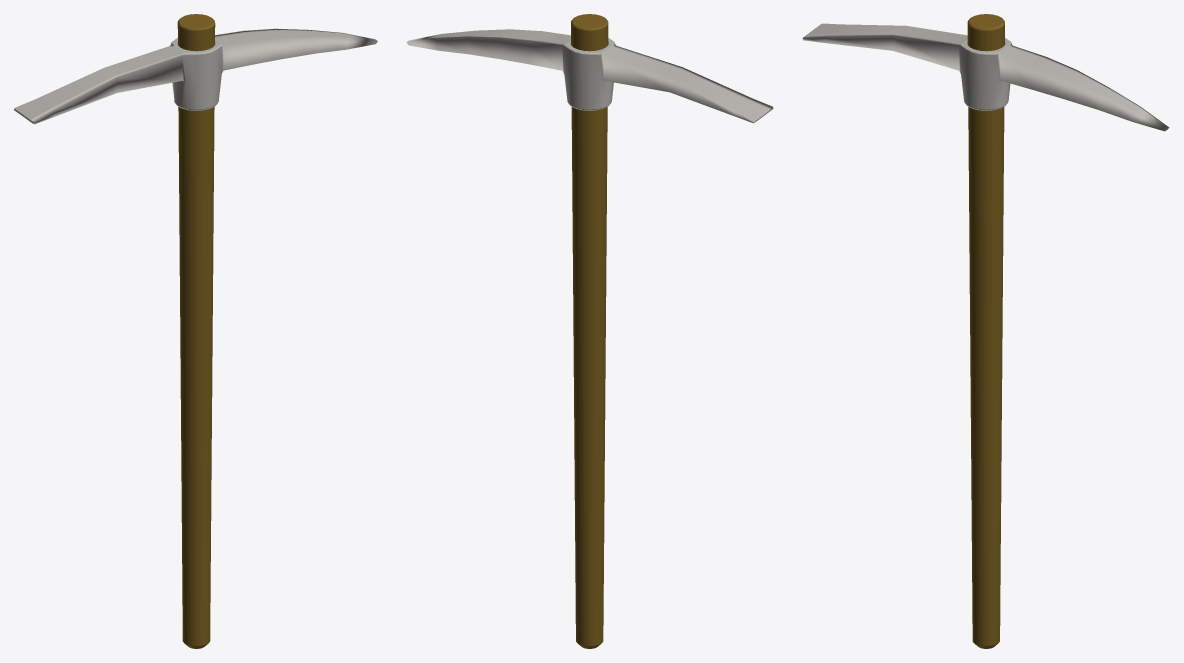
Rendered from pickaxe.obj.
3 renders of one model, left to right at view 1: azimuth 30°, elevation 25°; view 2: azimuth 150°, elevation 25°; view 3: azimuth 330°, elevation 25°, orthographic.
Visible parts, largest first — view 1: Pick_Handle, Pick_Head; view 2: Pick_Handle, Pick_Head; view 3: Pick_Handle, Pick_Head.
Boxes of the visible parts, bbox=[...] form: Pick_Handle: bbox=[177, 14, 215, 648]; Pick_Head: bbox=[14, 28, 377, 124]; Pick_Handle: bbox=[571, 14, 608, 648]; Pick_Head: bbox=[406, 29, 773, 123]; Pick_Handle: bbox=[967, 14, 1004, 648]; Pick_Head: bbox=[802, 23, 1169, 131].
Size of the model in its own units: 1.45 by 2.44 by 0.1612.
